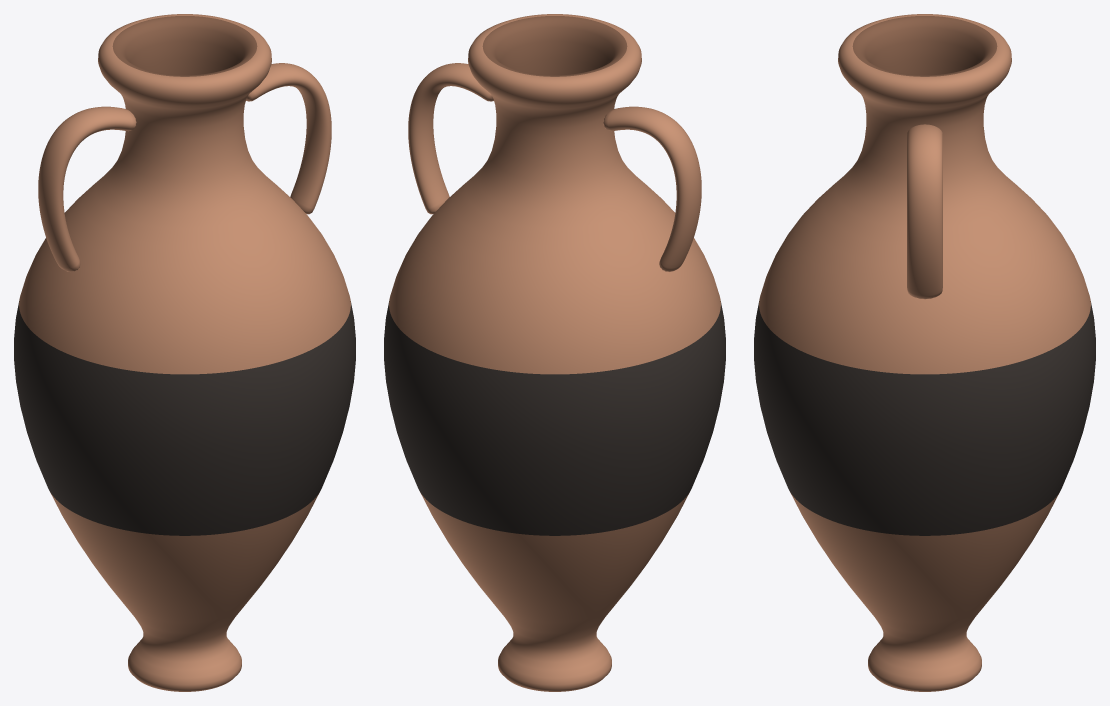
The model's file is G_Amphora.fbx.
3 views of the same model, side by side, from view 1: azimuth 30°, elevation 25°; view 2: azimuth 150°, elevation 25°; view 3: azimuth 270°, elevation 25° (orthographic).
Parts seen in each view (by area): view 1: G_Amphora; view 2: G_Amphora; view 3: G_Amphora.
Part boxes in pixels (x1,y1,x2,y2): G_Amphora: (14, 14, 355, 691); G_Amphora: (384, 14, 725, 691); G_Amphora: (754, 14, 1095, 691).
Size of the model in its own units: 0.6509 by 1.32 by 0.6509.
